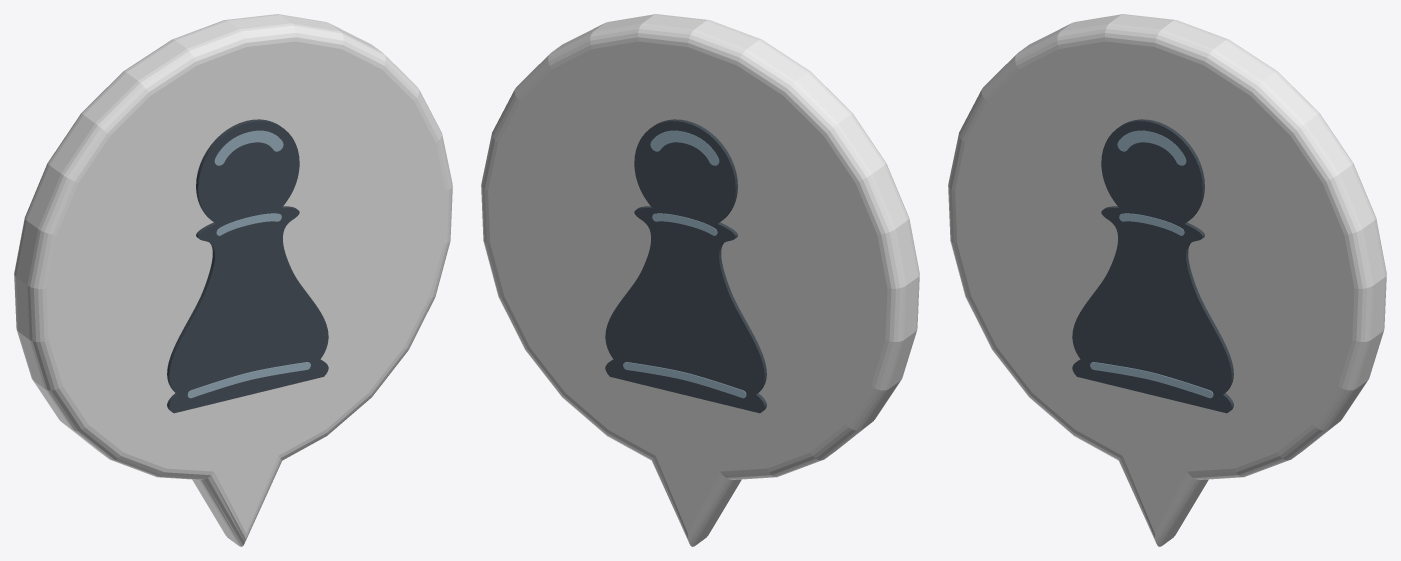
The model's file is chess_pawn.glb.
The picture shows the model from 3 angles, left to right: view 1: azimuth 30°, elevation 25°; view 2: azimuth 150°, elevation 25°; view 3: azimuth 330°, elevation 25°; orthographic projection.
Parts seen in each view (by area): view 1: EmotionBubble; view 2: EmotionBubble; view 3: EmotionBubble.
Boxes of the visible parts, box(x1,y1,x2,y2) form: EmotionBubble: box(14, 14, 452, 546); EmotionBubble: box(481, 14, 919, 546); EmotionBubble: box(948, 14, 1386, 546).
Size of the model in its own units: 5.29 by 6.16 by 0.688.
